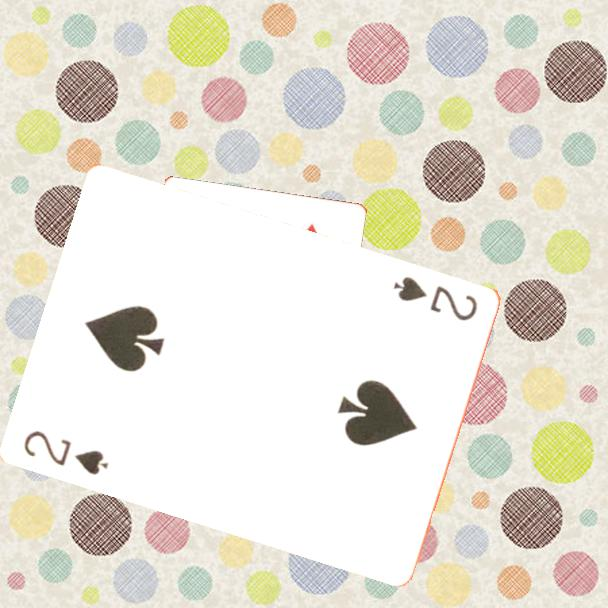s02: (21, 426, 113, 478), (390, 272, 481, 324)
